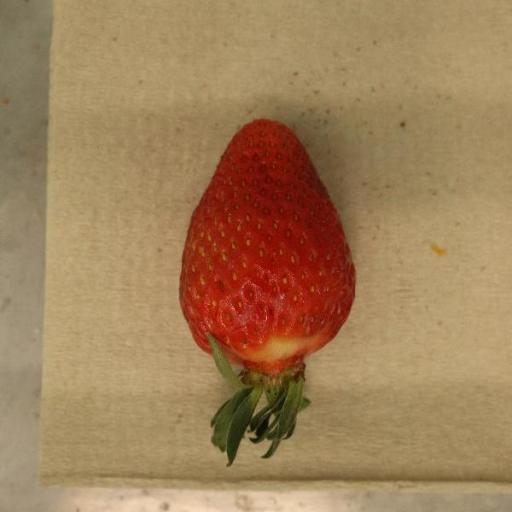Strawberry: (179, 119, 357, 468)
